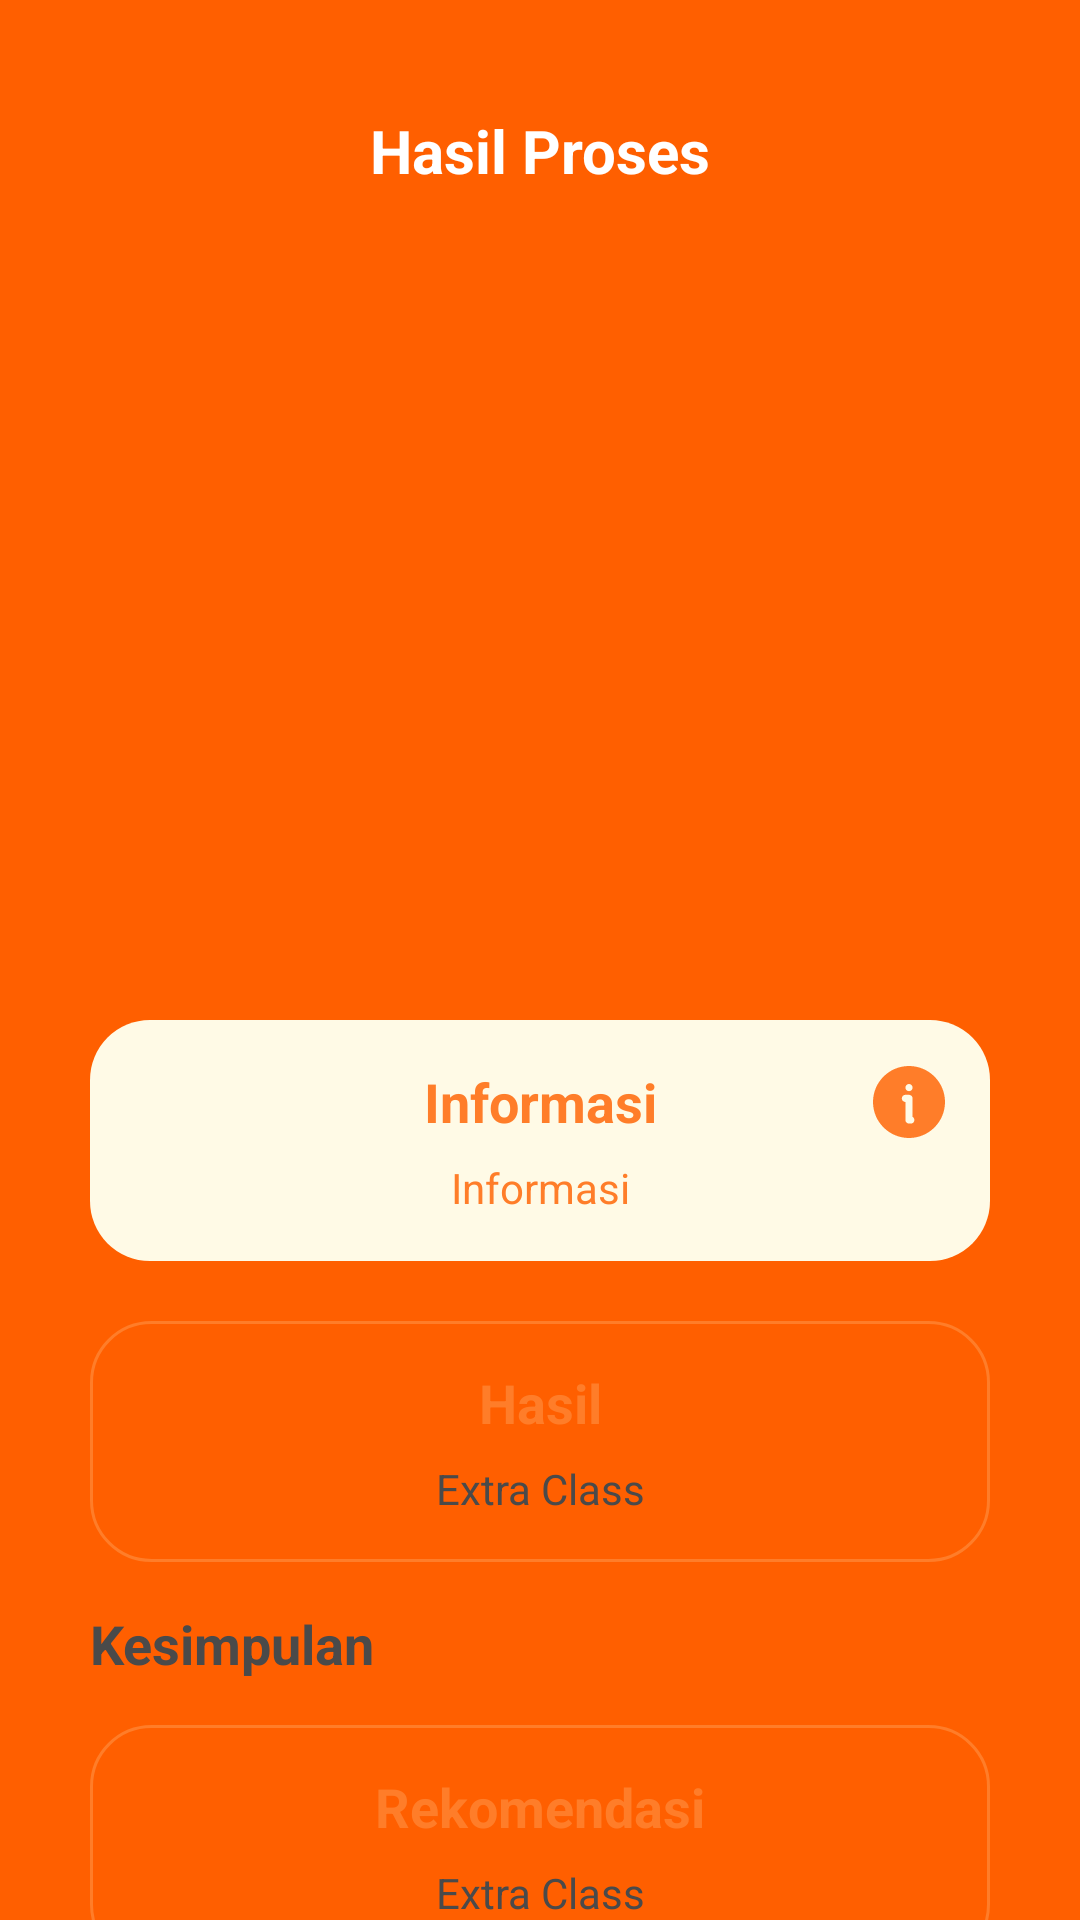

Icons on this 1080 x 1920 Android screen, each with the point to tap as (x=x, y=y):
information: (x=909, y=1102)
